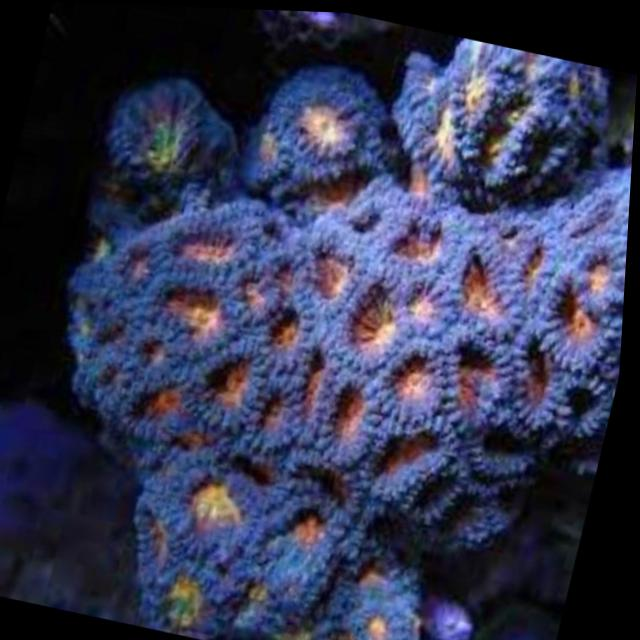Healthy Coral: (3, 1, 640, 640)
